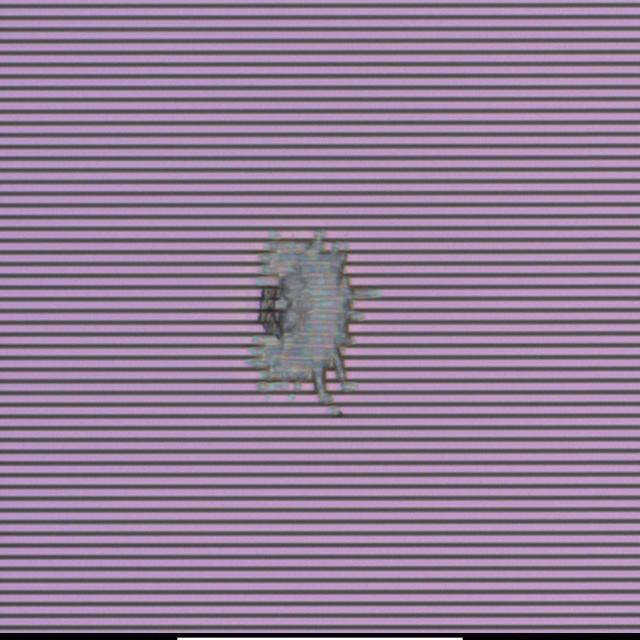03_intrusion: (248, 235, 374, 416)
